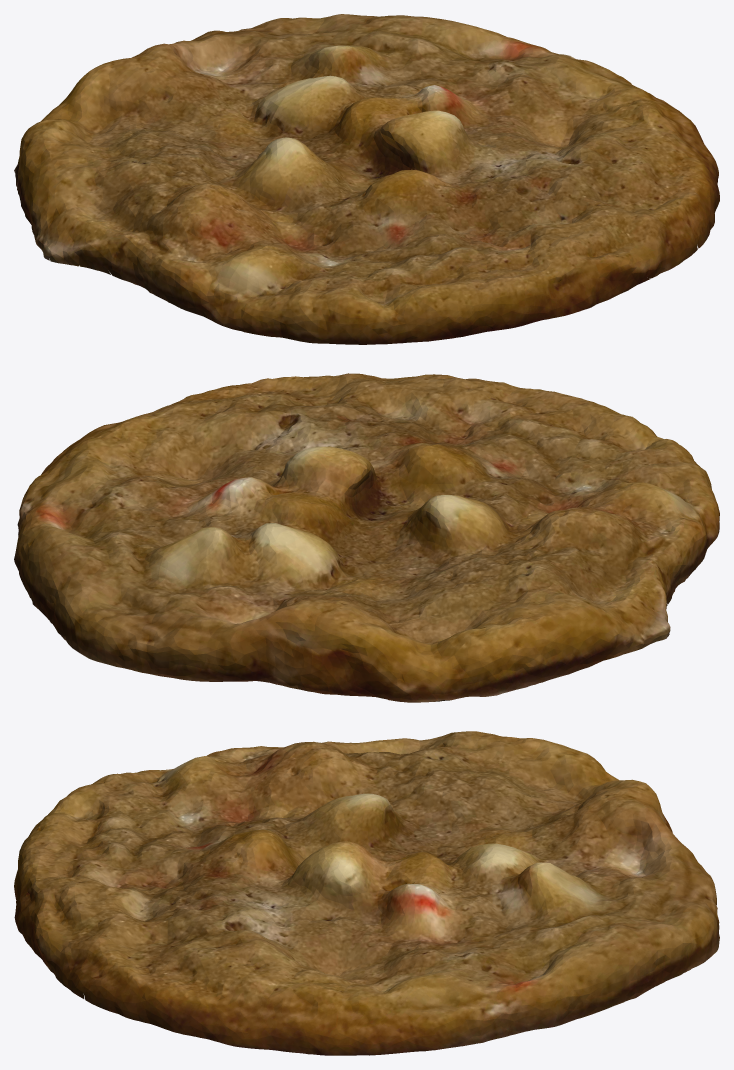
The model's file is peppermint-white-chocolate-cookies.gltf.
3 views of the same model, one above another, from view 1: azimuth 30°, elevation 25°; view 2: azimuth 150°, elevation 25°; view 3: azimuth 270°, elevation 25° (orthographic). The views are drawn at different scales.
Bounding box in the file's own units: 0.4673 × 0.0557 × 0.4629.
Materials: 1 (1 with a texture image).
